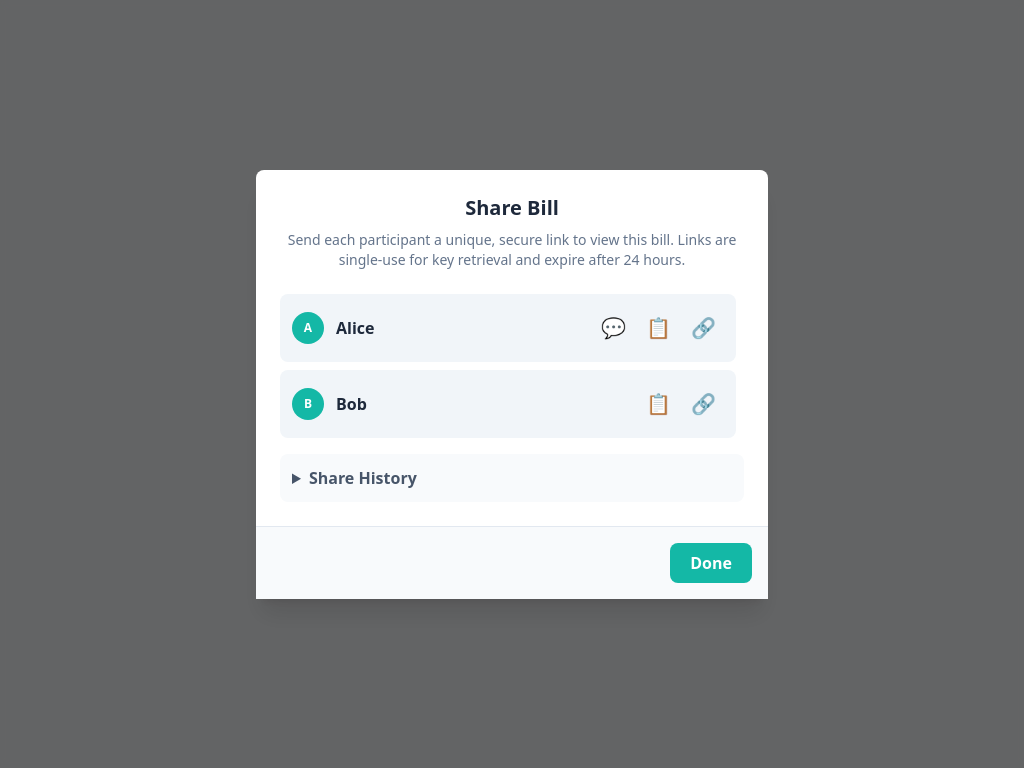
Test case: ShareModal › shows a message when no share history exists
Click the heading "Share History".
click(363, 478)  # box x1=309 y1=466 x2=417 y2=488
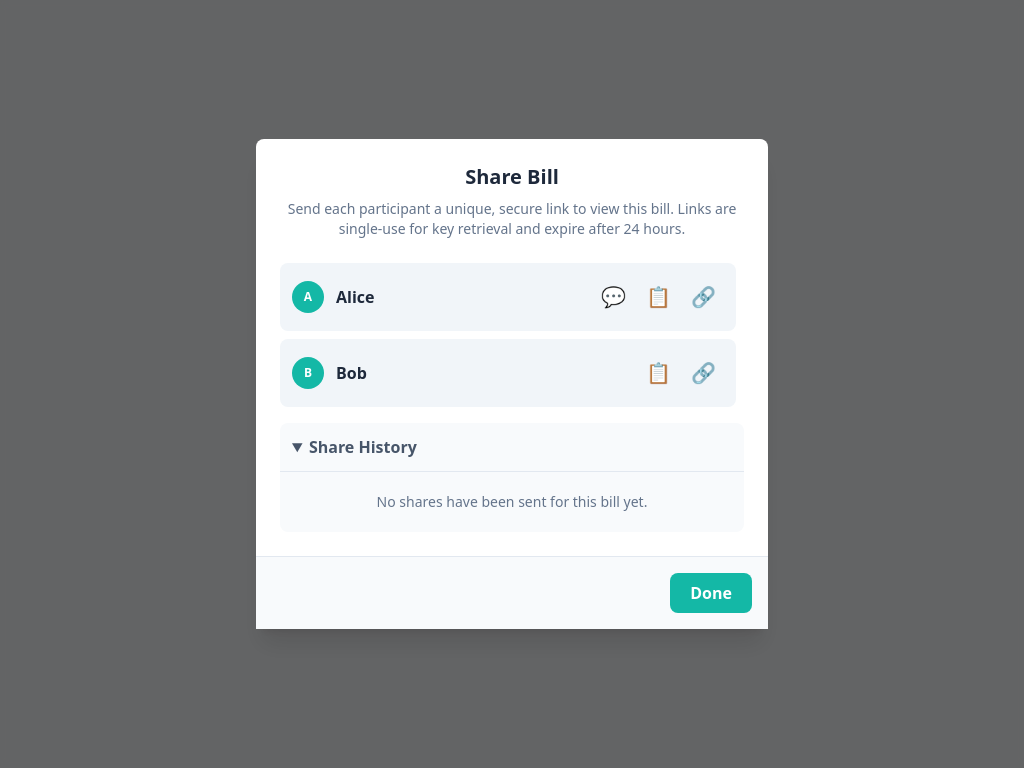
Expected: the text "No shares have been sent for this bill yet." is shown, x1=377 y1=492 x2=647 y2=511
